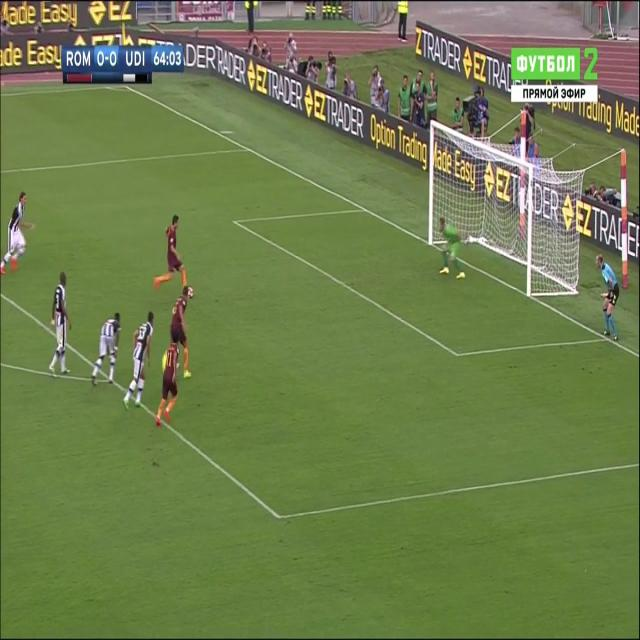Ball: (185, 284, 195, 302)
Goalkeeper: (437, 215, 469, 284)
Player: (121, 310, 156, 414), (0, 187, 38, 278), (90, 304, 124, 392), (151, 214, 187, 292), (49, 268, 73, 376), (155, 331, 180, 431), (170, 284, 194, 381)
Referee: (594, 252, 622, 344)
